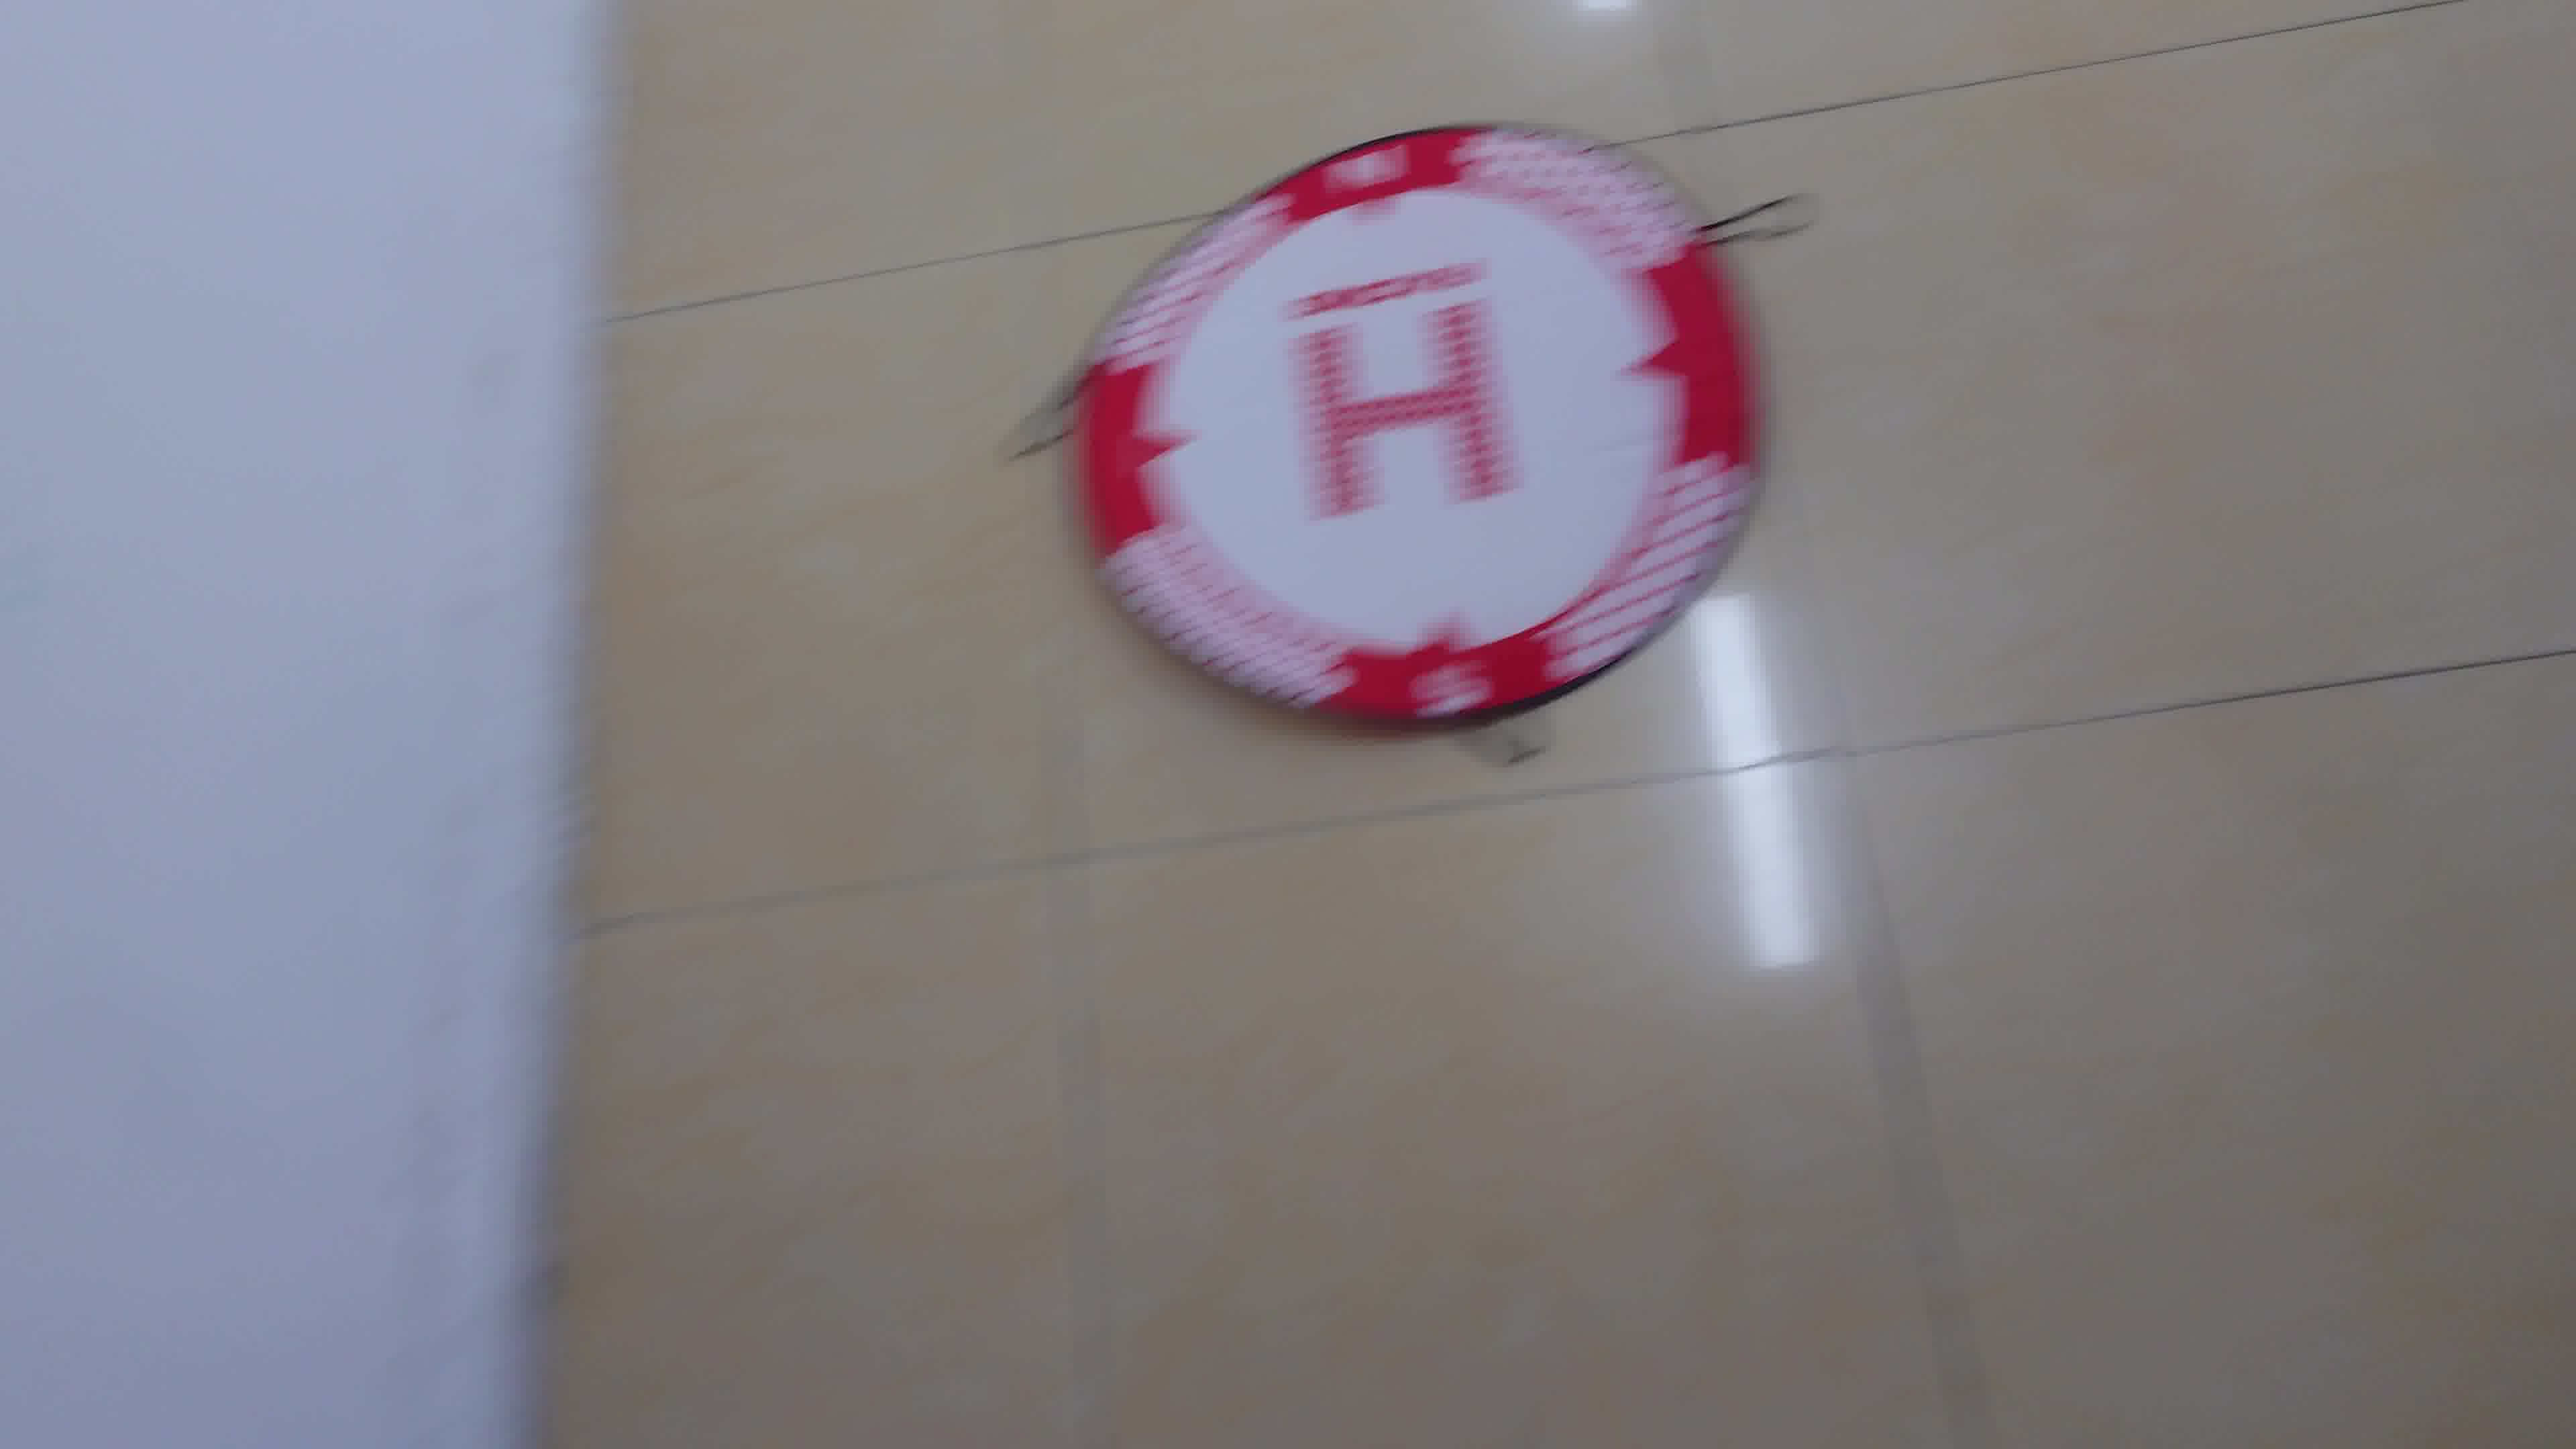H: (1292, 303, 1520, 518)
